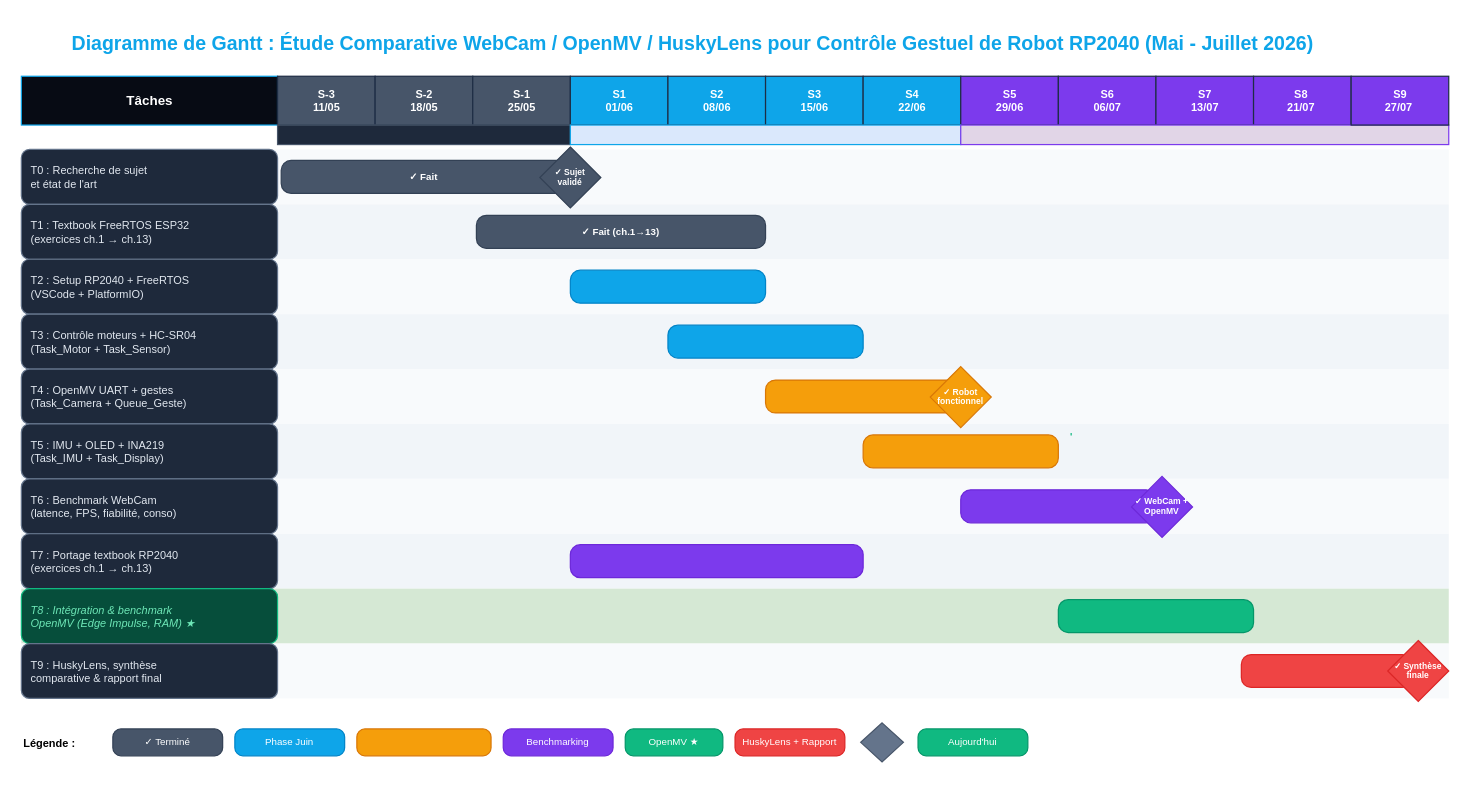
The diagram is 1470 pixels wide and 805 high, and some of its shapes have lost their labels. The shapes that lost their labels are listed below. From the top down, each one's centre as x and y in pixels, then its label:
At pixel 423 134: "MAI — Préparation".
At pixel 765 134: "JUIN".
At pixel 1204 134: "JUILLET".
At pixel 423 742: "Intégration Robot".
At pixel 881 742: "◆ Jalon".
